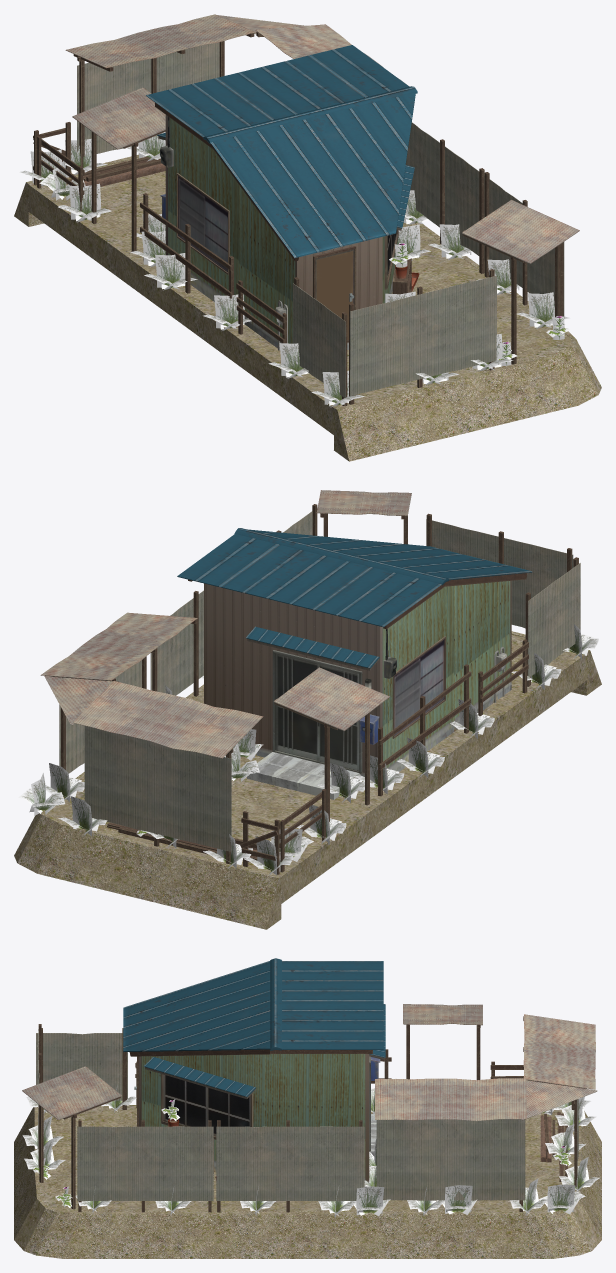
Rendered from houseset15.fbx.
3 views of the same model, one above another, from view 1: azimuth 30°, elevation 25°; view 2: azimuth 150°, elevation 25°; view 3: azimuth 270°, elevation 25° (orthographic). The views are drawn at different scales.
Visible parts, largest first — view 1: houseset15; view 2: houseset15; view 3: houseset15.
Boxes of the visible parts, box(x1,y1,x2,y2) form: houseset15: box(14, 14, 601, 461); houseset15: box(14, 490, 601, 929); houseset15: box(14, 958, 601, 1258).
Bounding box in the file's own units: 607 × 1191 × 418.
14 materials, 14 textured.
